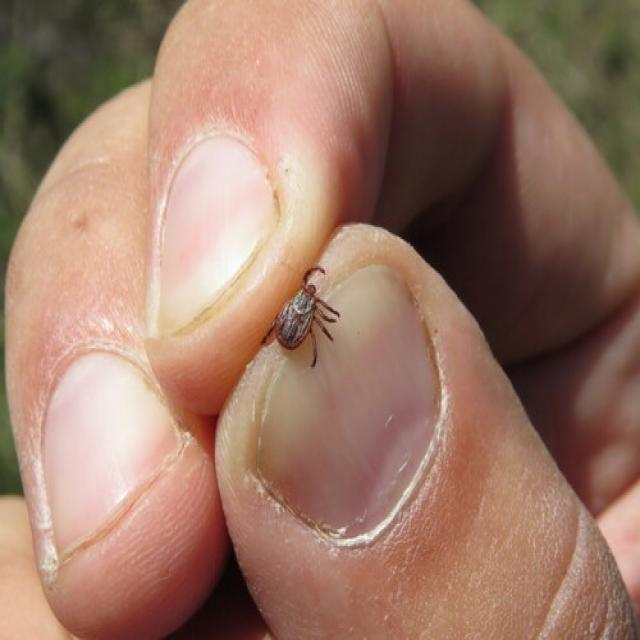Dermacentor Reticulatus-F: (262, 266, 340, 369)
